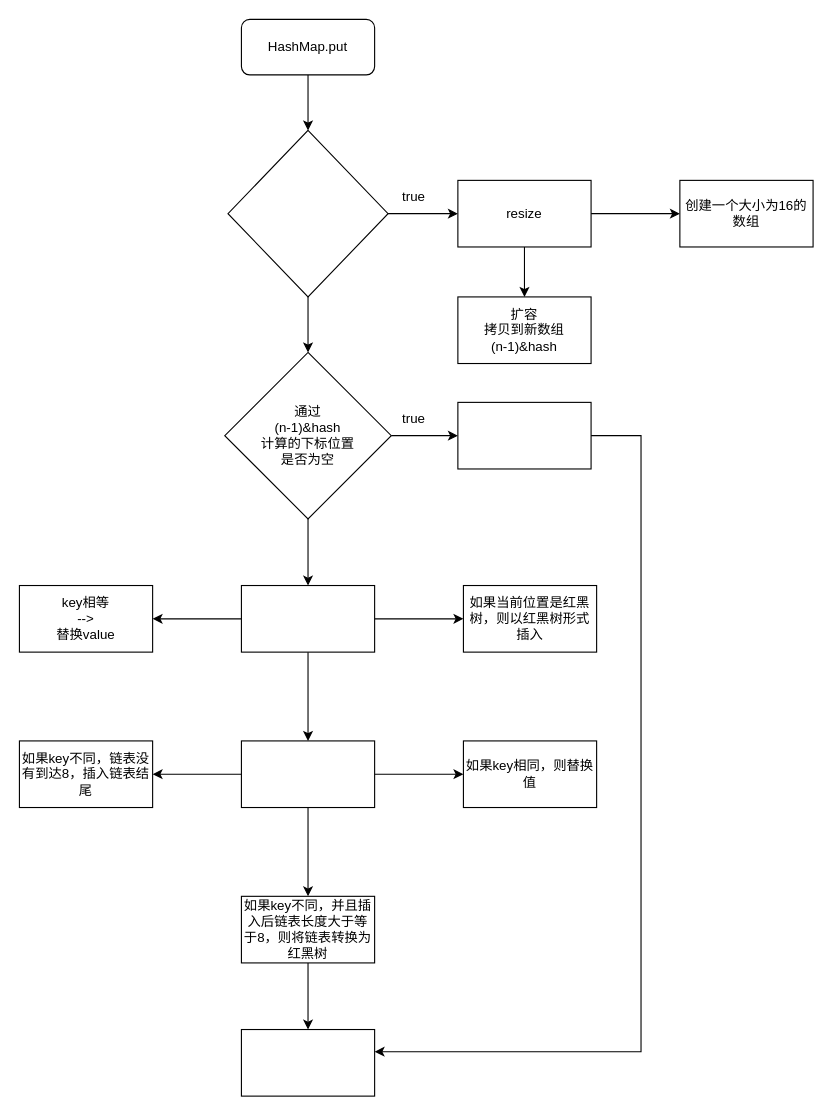
Image size: 833x1116. Some labels were removed from this diagram. The shapes that lost their labels are listed below. From the top down, each one's box as (x1, y1, x2, y2) in pixels, then its label:
(227, 129, 388, 297): table==null || table.length ==0
(457, 401, 591, 469): new Node
(240, 584, 375, 652): hash冲突
(240, 740, 375, 808): 链表 --> 遍历
(240, 1028, 375, 1096): 如果数组容量达到阈值，进行扩容
